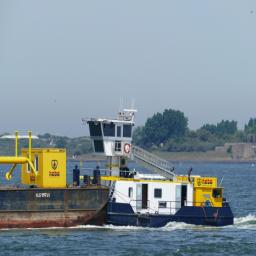tugboat: (72, 108, 237, 233)
